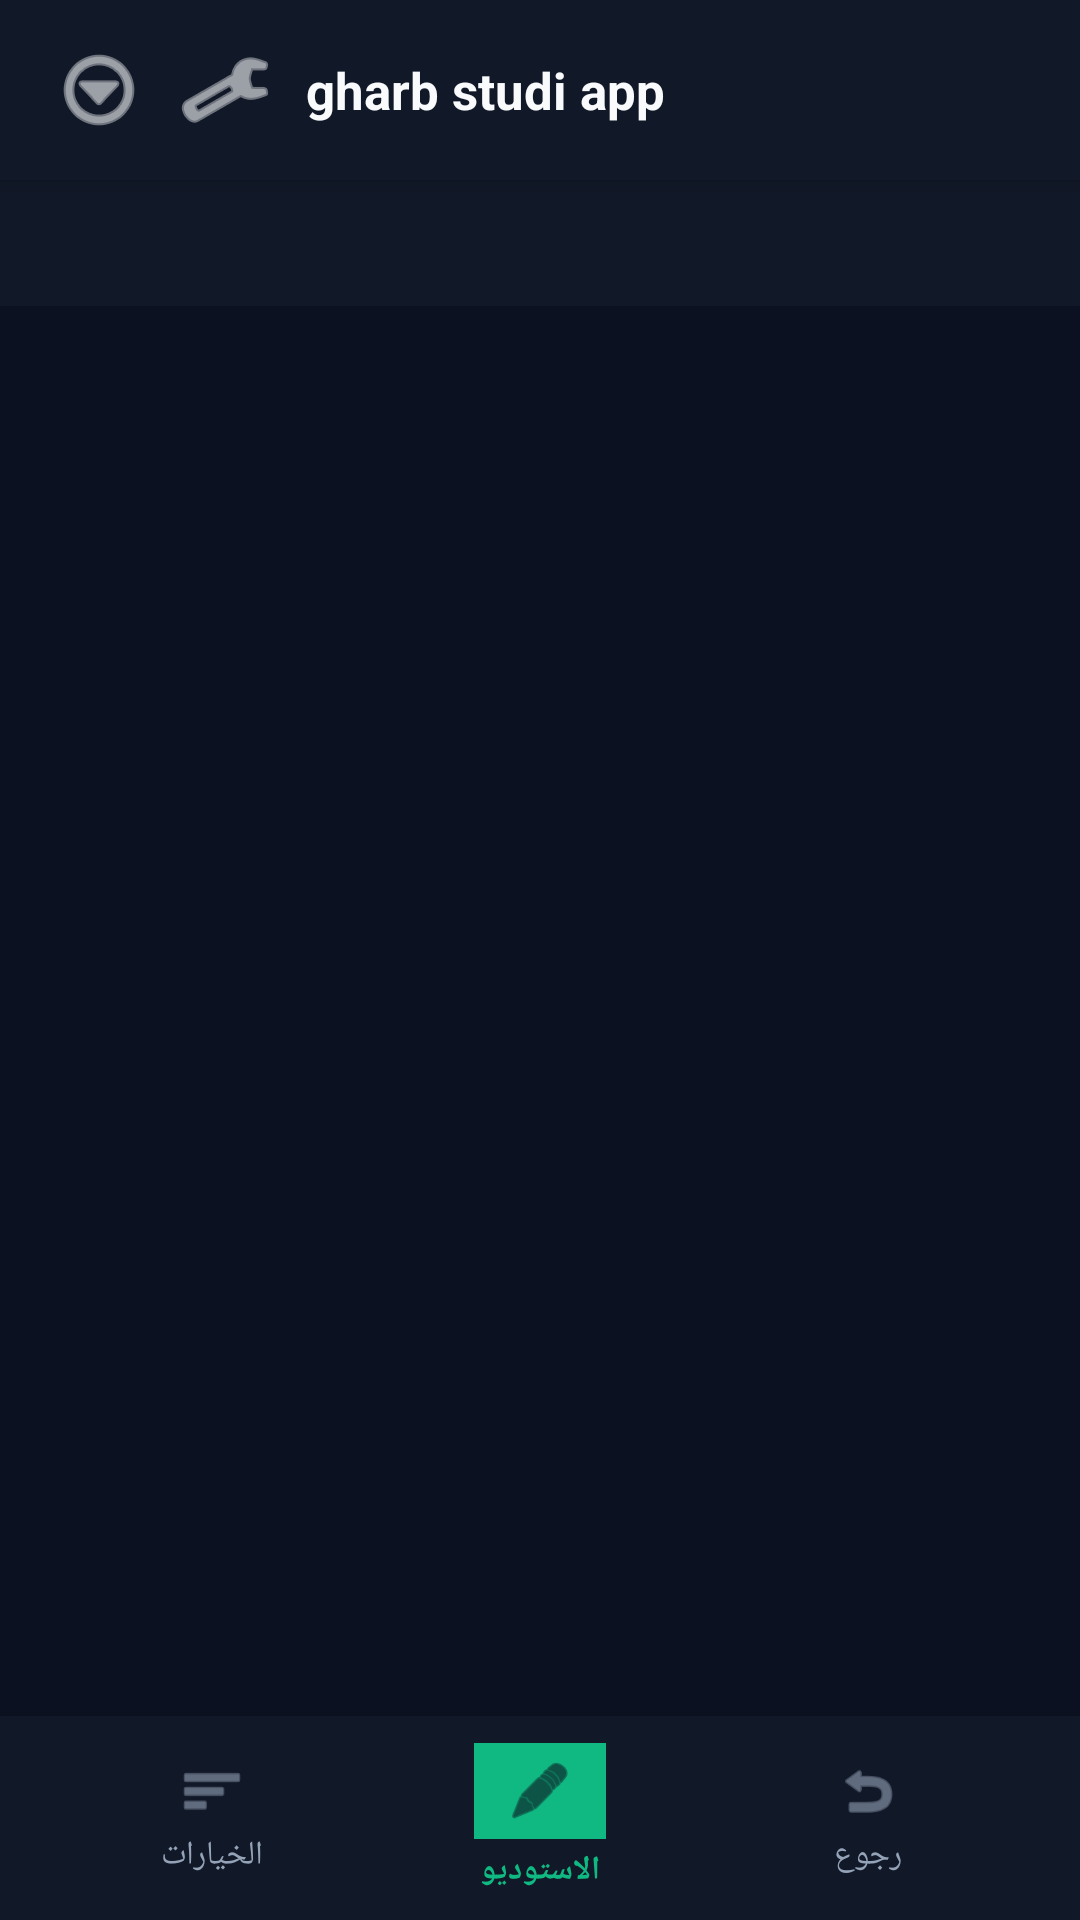

Point at icon controls on the screen. Image size 1080x1920, points as [x,y].
edit: [540,1790]
sort by size: [212,1791]
الإعدادات: [225,90]
